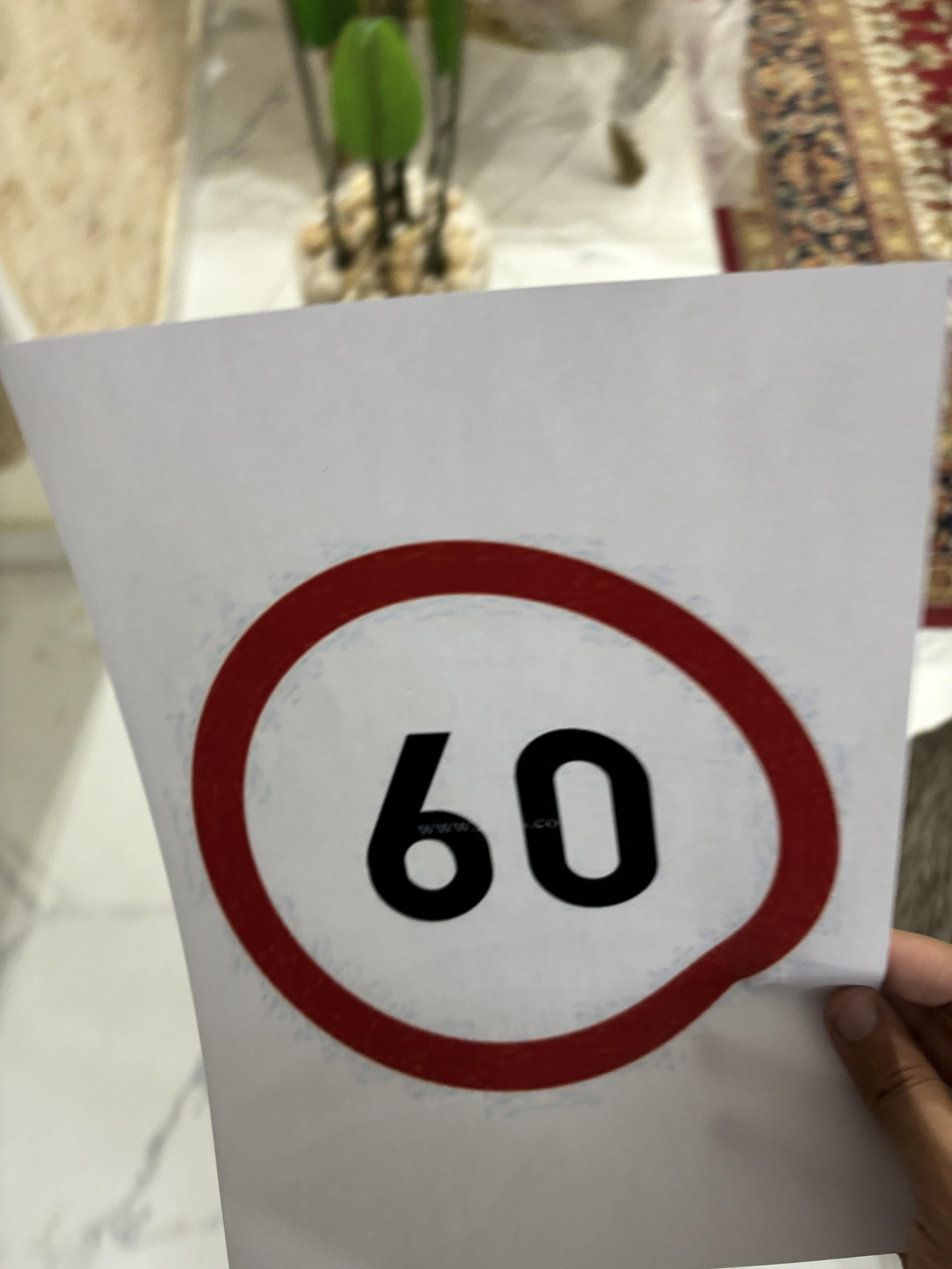60-Speed: (172, 529, 849, 1128)
